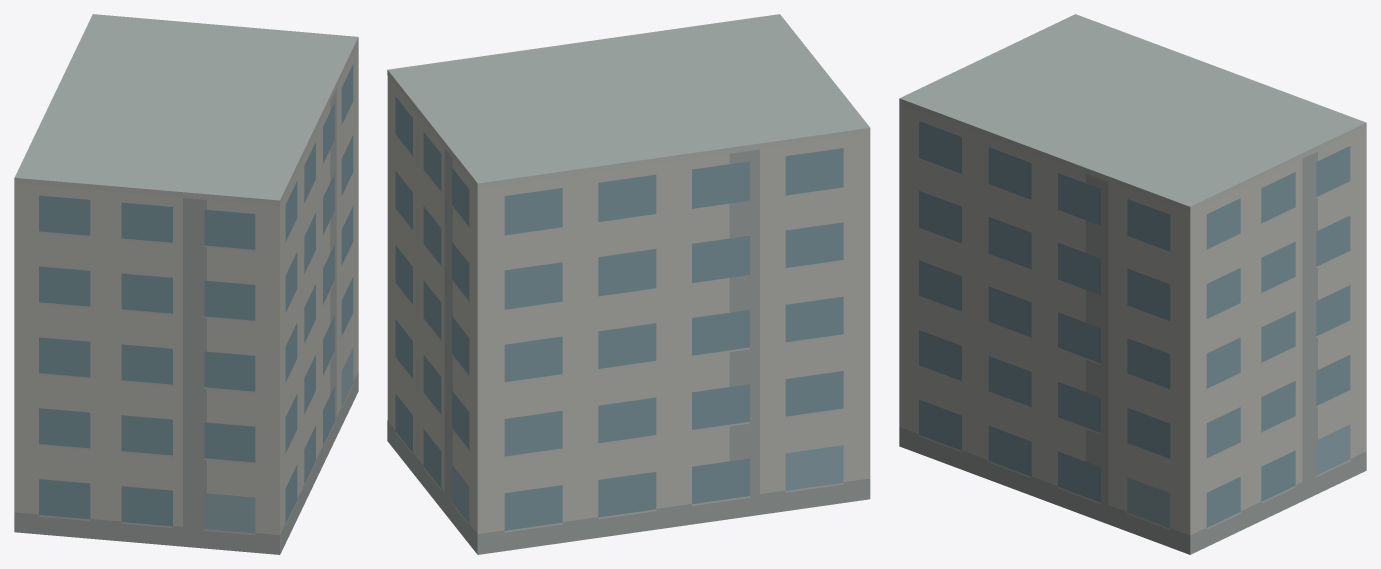
Rendered from residential-3a8ab3b8-f569-4cdf-b8fa-455f24cfc1a9.glb.
3 renders of one model, left to right at view 1: azimuth 30°, elevation 25°; view 2: azimuth 150°, elevation 25°; view 3: azimuth 270°, elevation 25°, orthographic. The views are drawn at different scales.
Visible parts, largest first — view 1: residential-3a8ab3b8-f569-4cdf-b8fa-455f24cfc1a9.tmp; view 2: residential-3a8ab3b8-f569-4cdf-b8fa-455f24cfc1a9.tmp; view 3: residential-3a8ab3b8-f569-4cdf-b8fa-455f24cfc1a9.tmp.
Part boxes in pixels (<box>): residential-3a8ab3b8-f569-4cdf-b8fa-455f24cfc1a9.tmp: <box>14,14,358,554</box>; residential-3a8ab3b8-f569-4cdf-b8fa-455f24cfc1a9.tmp: <box>387,14,870,554</box>; residential-3a8ab3b8-f569-4cdf-b8fa-455f24cfc1a9.tmp: <box>899,14,1366,554</box>.
Size of the model in its own units: 18.13 by 15.25 by 18.55.
